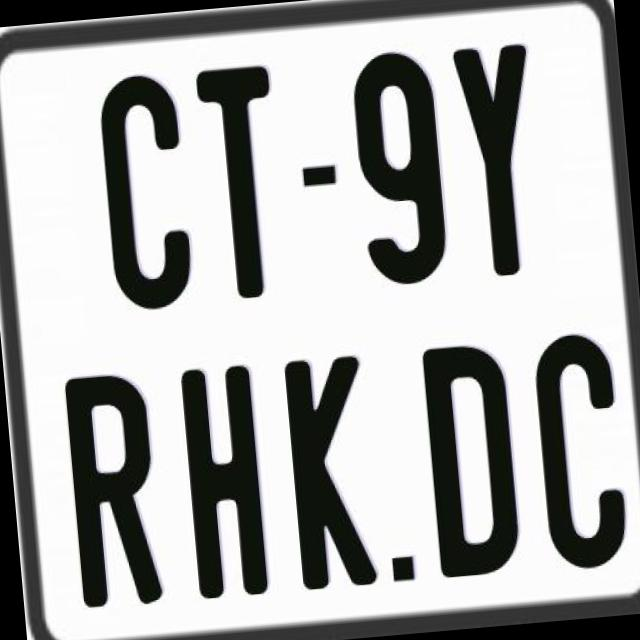9: (349, 44, 452, 290)
C: (93, 69, 199, 318), (529, 332, 631, 573)
D: (422, 339, 524, 576)
H: (176, 363, 267, 607)
K: (282, 355, 382, 593)
R: (62, 373, 162, 612)
T: (194, 61, 286, 299)
Y: (452, 41, 550, 278)
